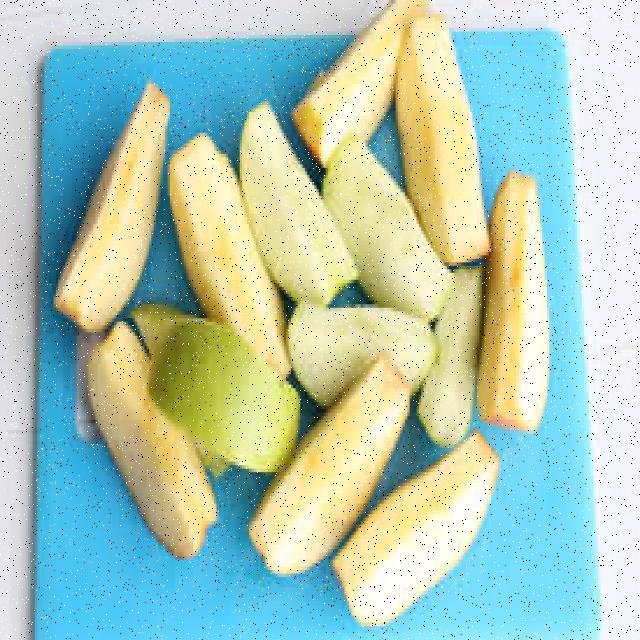Apple: (338, 429, 504, 637), (82, 332, 224, 560), (45, 76, 168, 332), (253, 387, 381, 565), (404, 10, 492, 253), (244, 110, 357, 296), (482, 172, 548, 430), (303, 0, 399, 157), (409, 254, 488, 425), (284, 302, 440, 382)
